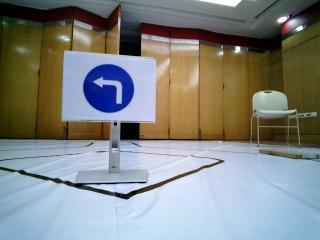left: (72, 58, 147, 124)
